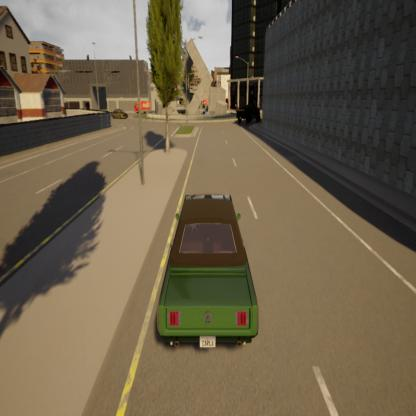Cars: (159, 196, 259, 352), (234, 101, 264, 128), (133, 99, 153, 114), (112, 107, 128, 121)
